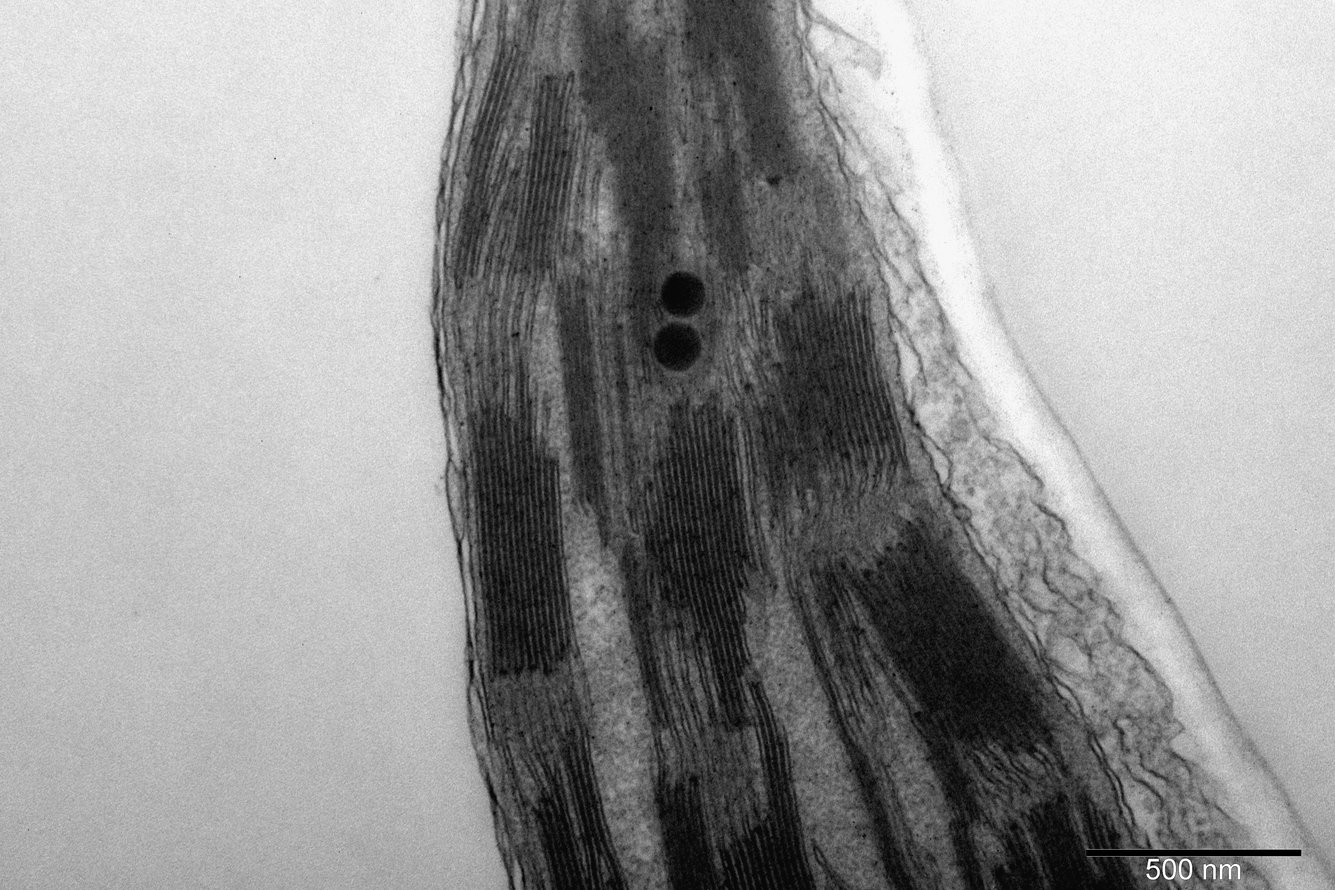granum: (849, 515, 1059, 823), (643, 405, 759, 730), (736, 291, 908, 498), (465, 395, 581, 675), (577, 7, 678, 315), (681, 0, 810, 184), (447, 38, 531, 280), (718, 698, 819, 889), (510, 71, 583, 279), (554, 283, 607, 512), (616, 542, 674, 732), (651, 779, 721, 890), (560, 737, 618, 863), (1023, 795, 1099, 890), (694, 151, 751, 274), (531, 786, 594, 890), (1076, 796, 1137, 890), (810, 566, 866, 666), (950, 819, 990, 889), (993, 841, 1045, 890), (873, 835, 918, 890)
